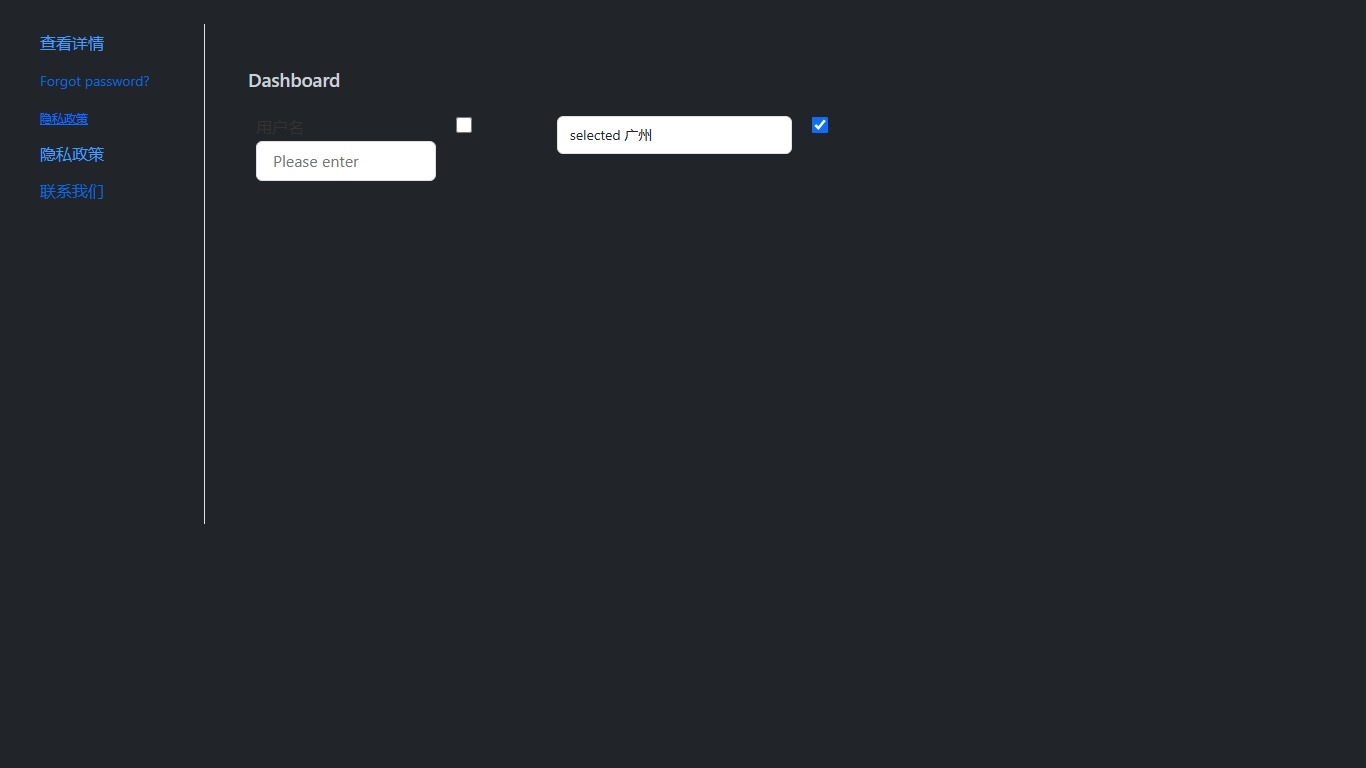checkbox: (456, 117, 472, 133), (812, 117, 828, 133)
icon: (480, 116, 536, 135), (836, 116, 892, 135)
input: (256, 141, 436, 181)
link: (40, 71, 150, 90), (40, 32, 104, 53), (40, 143, 104, 164), (40, 180, 104, 201), (40, 110, 88, 126)
radio: (456, 116, 536, 135), (812, 116, 892, 135)
select: (557, 116, 792, 154)
